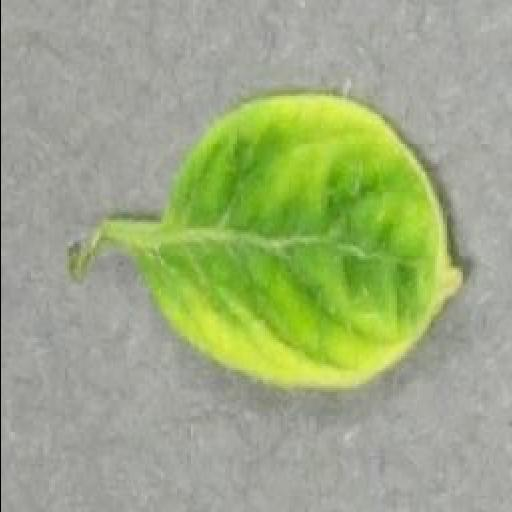disease_tomato: (142, 96, 462, 390)
